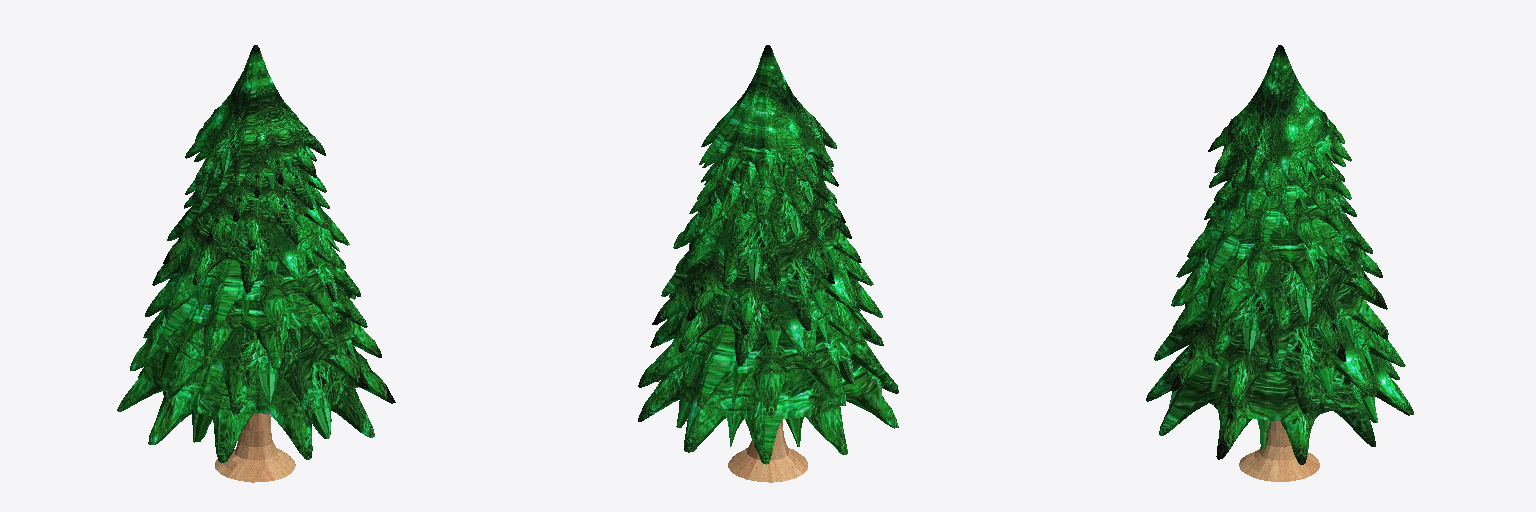
3 views of the same model, side by side, from view 1: azimuth 30°, elevation 25°; view 2: azimuth 150°, elevation 25°; view 3: azimuth 270°, elevation 25° (orthographic).
Visible parts, largest first — view 1: pCone10, pCylinder1; view 2: pCone10, pCylinder1; view 3: pCone10, pCylinder1.
Part boxes in pixels (left/top/right/bottom): pCone10: left=117, top=45, right=395, bottom=462; pCylinder1: left=215, top=413, right=295, bottom=482; pCone10: left=638, top=45, right=898, bottom=464; pCylinder1: left=728, top=420, right=807, bottom=482; pCone10: left=1146, top=45, right=1413, bottom=464; pCylinder1: left=1239, top=420, right=1319, bottom=481.
Bounding box in the file's own units: 6.11 × 10.39 × 5.99.
2 materials, 2 textured.